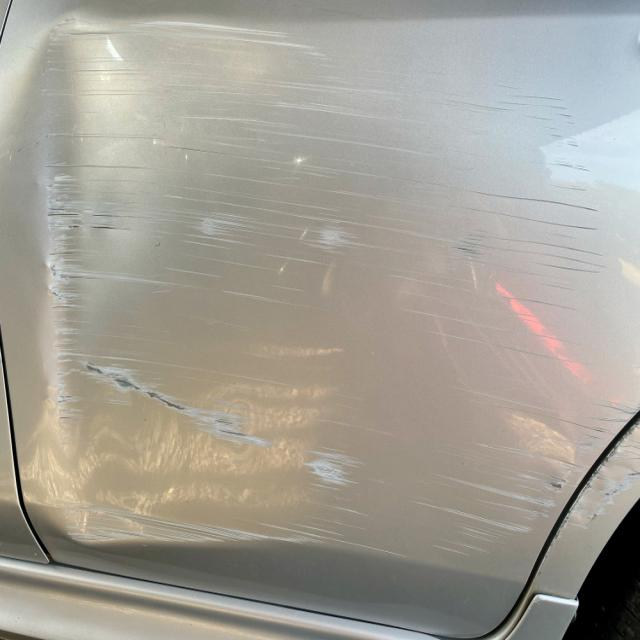scratch: (42, 12, 640, 561), (547, 417, 640, 559)
